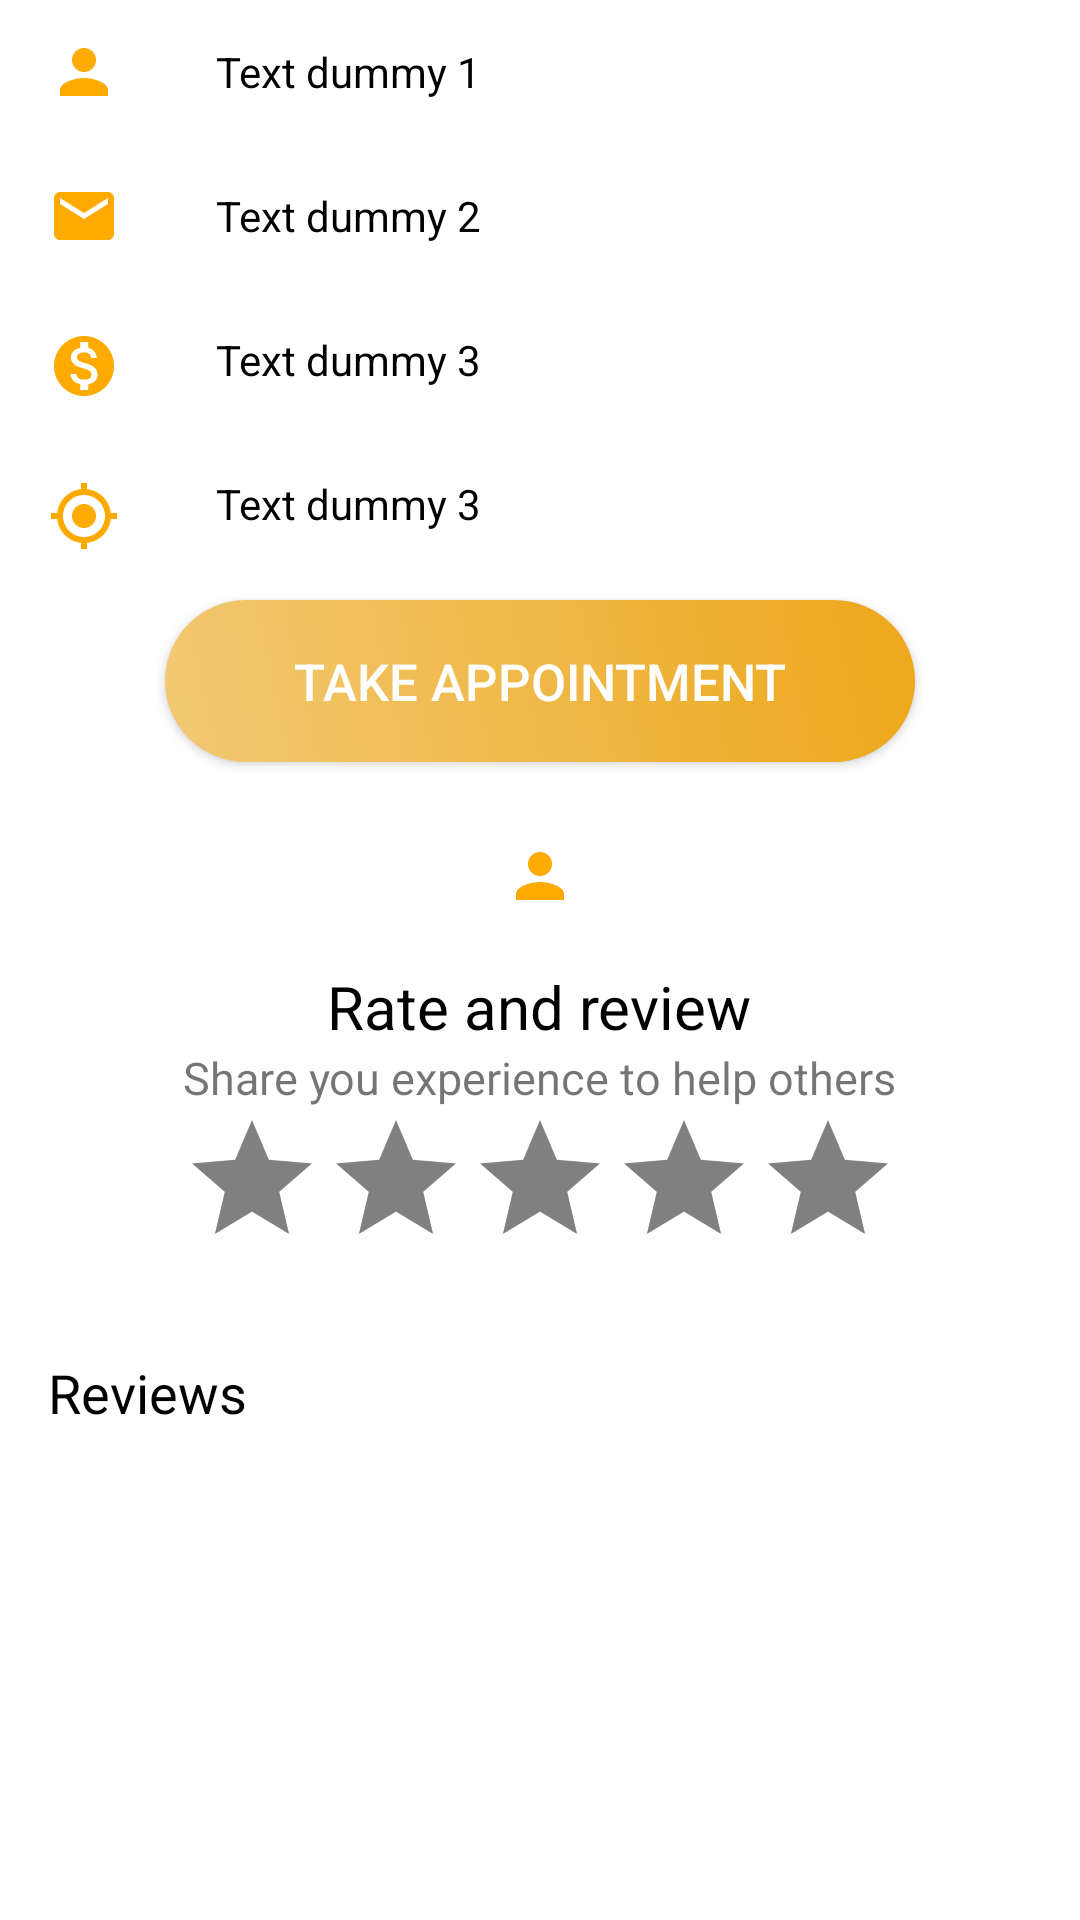

Where to tap for icons on this 1080px x 1920px app screen, as [x,y]:
email: [84,216]
location: [84,516]
monetization on: [84,366]
user profile ice: [84,72], [540,876]
